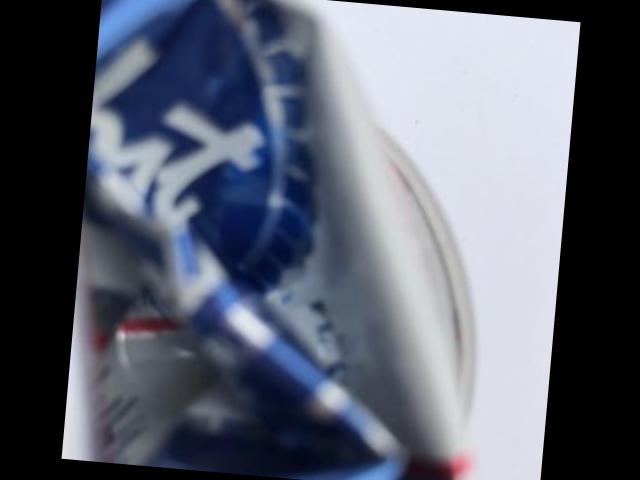metal: (60, 0, 475, 480)
